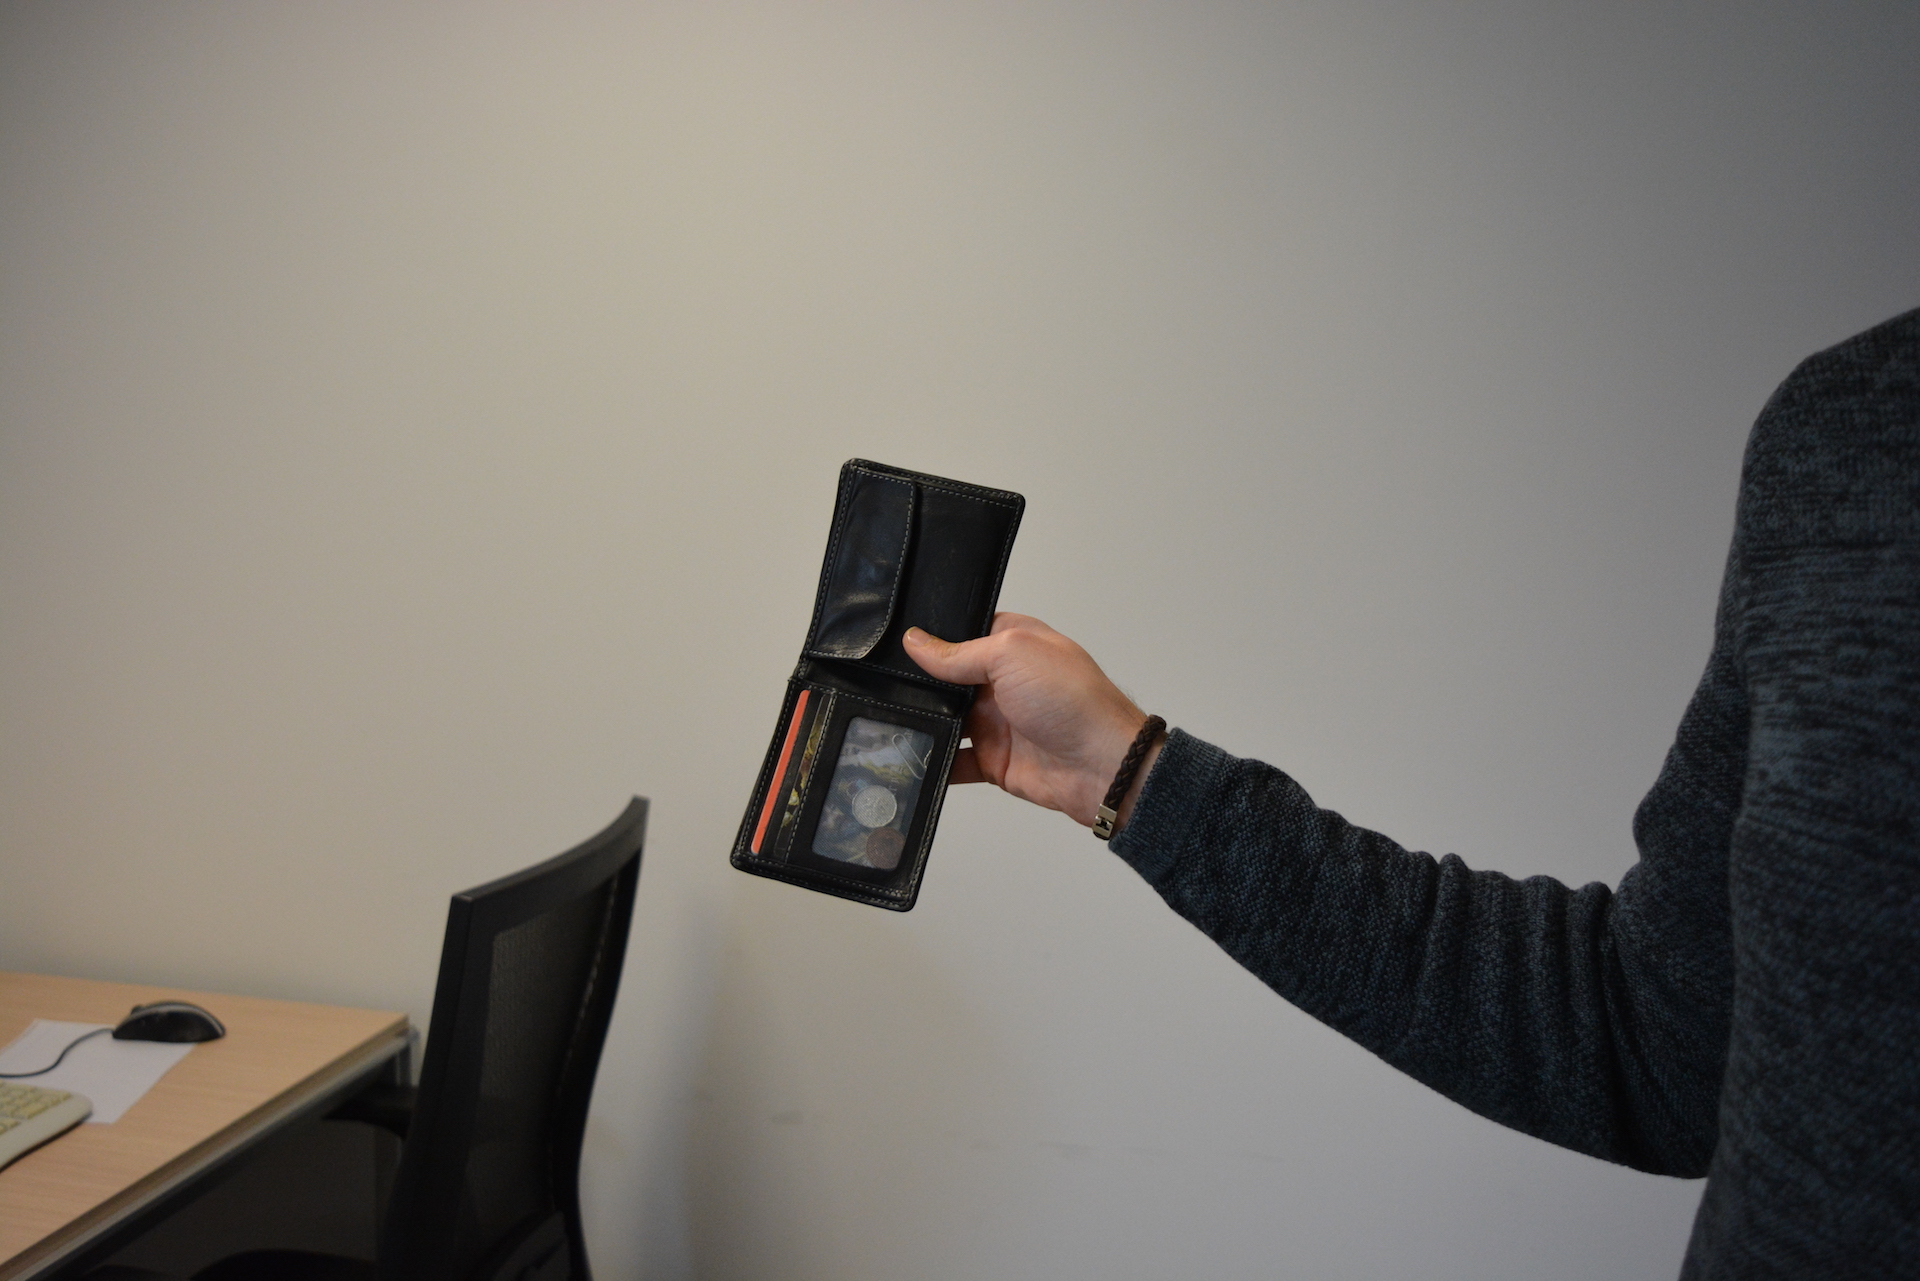monedero: (728, 455, 1026, 914)
